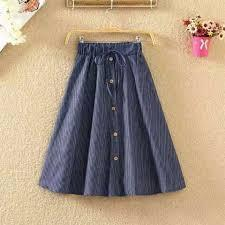skirt: (37, 40, 186, 196)
